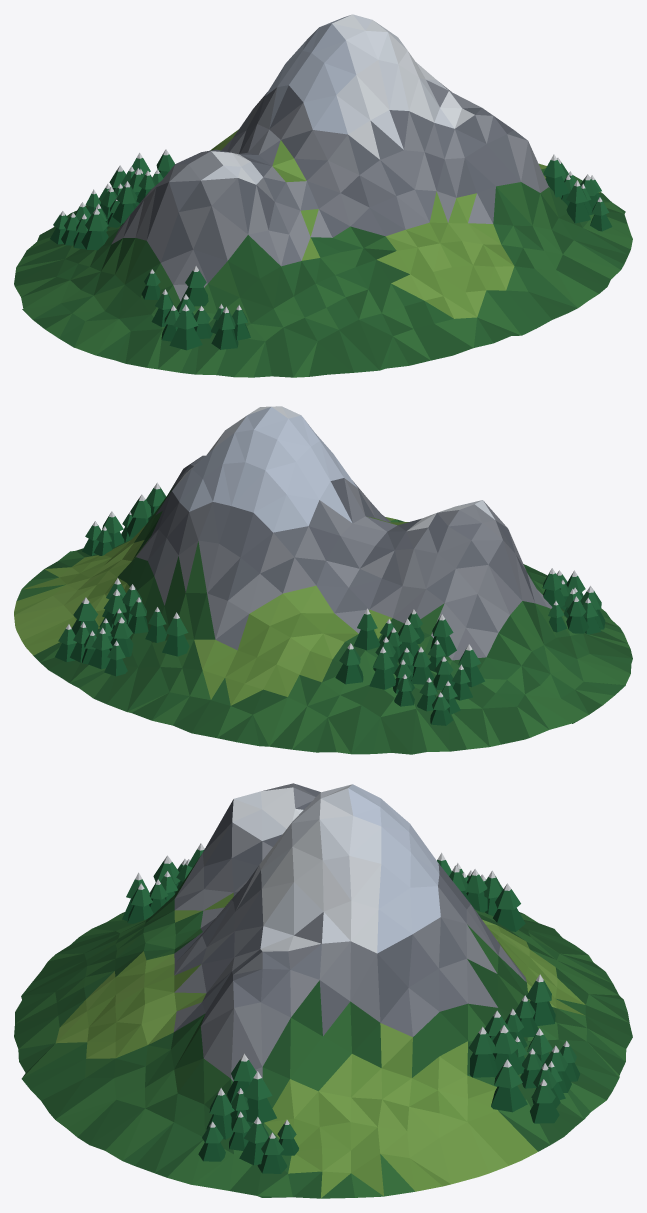
The model's file is alps-mountain-2.glb.
The picture shows the model from 3 angles, top to bottom: view 1: azimuth 30°, elevation 25°; view 2: azimuth 150°, elevation 25°; view 3: azimuth 270°, elevation 25°; orthographic projection. The views are drawn at different scales.
Visible parts, largest first — view 1: AlpsMountain2; view 2: AlpsMountain2; view 3: AlpsMountain2.
Part boxes in pixels (x1=…): AlpsMountain2: x1=14, y1=14, x2=632, y2=377; AlpsMountain2: x1=14, y1=406, x2=632, y2=754; AlpsMountain2: x1=14, y1=783, x2=632, y2=1198.
Bounding box in the file's own units: 0.9962 × 0.3905 × 0.8046.
